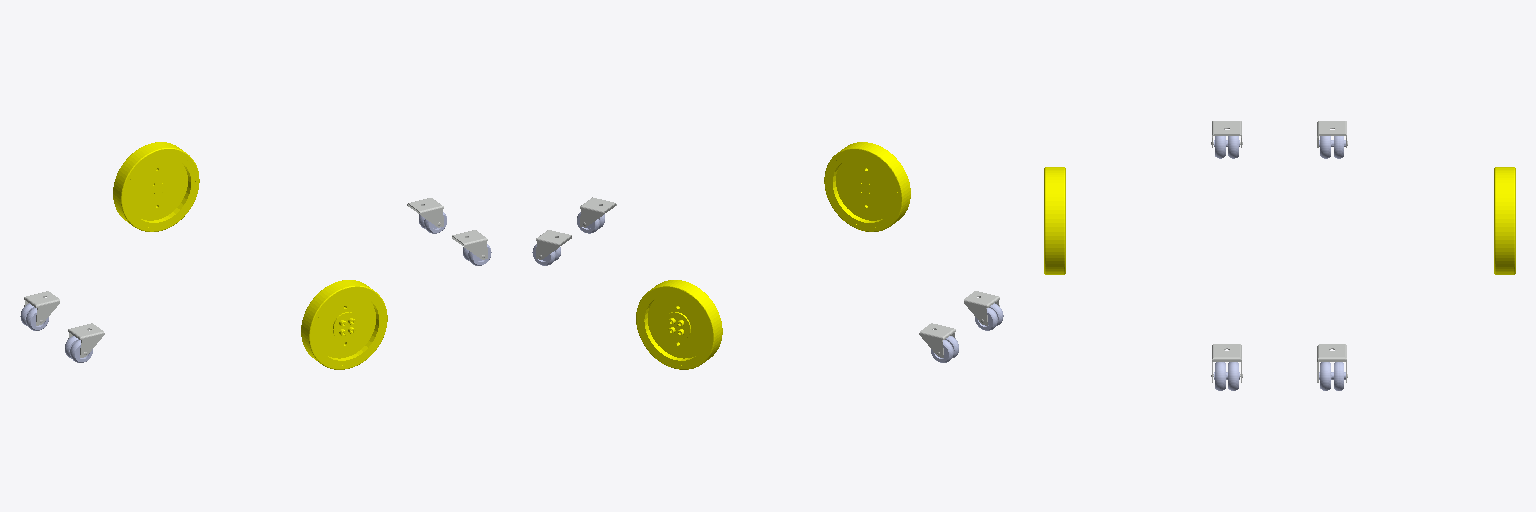
URDF robot description (Geek_urdf):
<?xml version="1.0" encoding="utf-8"?>
<!-- This URDF was automatically created by SolidWorks to URDF Exporter! Originally created by [author] ([email redacted]) 
     Commit Version: 1.6.0-4-g7f85cfe  Build Version: 1.6.7995.38578
     For more information, please see http://wiki.ros.org/sw_urdf_exporter -->
<robot
  name="Geek_urdf">
  <link
    name="base_link">
    <inertial>
      <origin
        xyz="-0.00305716206611616 0.0045884202321908 0.06439519652059"
        rpy="0 0 0" />
      <mass
        value="77.8438891379946" />
      <inertia
        ixx="2.66158650682503"
        ixy="0.00465456886997364"
        ixz="-0.0448561930855718"
        iyy="4.95553904457018"
        iyz="-0.000347263091590302"
        izz="7.43976146503052" />
    </inertial>
    <visual>
      <origin
        xyz="0 0 0"
        rpy="0 0 0" />
      <geometry>
        <mesh
          filename="package://urdf_gazebo/model/meshes/cover_geek.STL" />
      </geometry>
      <material
        name="">
        <color
          rgba="0.792156862745098 0.819607843137255 0.933333333333333 1" />
      </material>
    </visual>
    <collision>
      <origin
        xyz="0 0 0"
        rpy="0 0 0" />
      <geometry>
        <mesh
          filename="package://urdf_gazebo/model/meshes/cover_geek.STL" />
      </geometry>
    </collision>
  </link>

<!--  <link
    name="laser">
    <visual>
      <origin
        xyz="0 0 0"
        rpy="0 0 0" />
      <geometry>
        <mesh
          filename="package://urdf_gazebo/model/meshes/LidarC1.STL" />
      </geometry>
      <material
        name="">
        <color
          rgba="1 1 0 1" />
      </material>
    </visual>
    <collision>
      <origin
        xyz="0 0 0"
        rpy="0 0 0" />
      <geometry>
        <mesh
          filename="package://urdf_gazebo/model/meshes/LidarC1.STL" />
      </geometry>
    </collision>
  </link>

  <joint
    name="lidar_joint"
    type="fixed">
    <origin
      xyz="0.48 0 0.18"
      rpy="0 0 3.14" />
    <parent
      link="base_link" />
    <child
      link="laser" />
    <axis
      xyz="0 0 0" />
    <limit
      effort="0"
      velocity="0" />
  </joint> -->

  <link
    name="Wheel_left">
    <inertial>
      <origin
        xyz="-6.93889390390723E-18 -0.00478023300817915 1.38777878078145E-17"
        rpy="0 0 0" />
      <mass
        value="0.517910654794229" />
      <inertia
        ixx="0.00136656595177452"
        ixy="-2.42660287534672E-19"
        ixz="7.66944741072378E-23"
        iyy="0.00265936081827228"
        iyz="-5.55968853686178E-20"
        izz="0.00136780763909608" />
    </inertial>
    <visual>
      <origin
        xyz="0 0 0"
        rpy="0 0 0" />
      <geometry>
        <mesh
          filename="package://urdf_gazebo/model/meshes/Wheel_left.STL" />
      </geometry>
      <material
        name="">
        <color
          rgba="1 1 0 1" />
      </material>
    </visual>
    <collision>
      <origin
        xyz="0 0 0"
        rpy="0 0 0" />
      <geometry>
        <mesh
          filename="package://urdf_gazebo/model/meshes/Wheel_left.STL" />
      </geometry>
    </collision>
  </link>

  <joint
    name="Left_joint"
    type="continuous">
    <origin
      xyz="-0.0124999999999999 0.379 0.014"
      rpy="0 0 0" />
    <parent
      link="base_link" />
    <child
      link="Wheel_left" />
    <axis
      xyz="0 1 0" />
    <limit
      effort="5"
      velocity="0.5" />
  </joint>

  <link
    name="Wheel_right">
    <inertial>
      <origin
        xyz="0 0.00478023300817909 4.16333634234434E-17"
        rpy="0 0 0" />
      <mass
        value="0.517910654794229" />
      <inertia
        ixx="0.00136656595177452"
        ixy="-4.63116670299882E-20"
        ixz="-2.77147956340206E-23"
        iyy="0.00265936081827228"
        iyz="2.61304985200274E-19"
        izz="0.00136780763909608" />
    </inertial>
    <visual>
      <origin
        xyz="0 0 0"
        rpy="0 0 0" />
      <geometry>
        <mesh
          filename="package://urdf_gazebo/model/meshes/Wheel_right.STL" />
      </geometry>
      <material
        name="">
        <color
          rgba="1 1 0 1" />
      </material>
    </visual>
    <collision>
      <origin
        xyz="0 0 0"
        rpy="0 0 0" />
      <geometry>
        <mesh
          filename="package://urdf_gazebo/model/meshes/Wheel_right.STL" />
      </geometry>
    </collision>
  </link>

  <joint
    name="Right_joint"
    type="continuous">
    <origin
      xyz="-0.012761068076337 -0.378147843374183 0.0139950371053173"
      rpy="0 0 0" />
    <parent
      link="base_link" />
    <child
      link="Wheel_right" />
    <axis
      xyz="0 1 0" />
    <limit
      effort="5"
      velocity="0.5" />
  </joint>

  <link
    name="Castor_left_front">
    <inertial>
      <origin
        xyz="0.0116818994718 6.90648816192851E-08 -0.0117572288269466"
        rpy="0 0 0" />
      <mass
        value="0.097818964209342" />
      <inertia
        ixx="5.05495845715858E-05"
        ixy="-1.33022102484294E-10"
        ixz="5.37462531907203E-06"
        iyy="3.44210732908012E-05"
        iyz="-1.46748010716844E-10"
        izz="5.86667794924096E-05" />
    </inertial>
    <visual>
      <origin
        xyz="0 0 0"
        rpy="0 0 0" />
      <geometry>
        <mesh
          filename="package://urdf_gazebo/model/meshes/Castor_left_front.STL" />
      </geometry>
      <material
        name="">
        <color
          rgba="0.831372549019608 0.83921568627451 0.831372549019608 1" />
      </material>
    </visual>
    <collision>
      <origin
        xyz="0 0 0"
        rpy="0 0 0" />
      <geometry>
        <mesh
          filename="package://urdf_gazebo/model/meshes/Castor_left_front.STL" />
      </geometry>
    </collision>
  </link>

  <joint
    name="Castor_joint1"
    type="continuous">
    <origin
      xyz="0.433331730167157 0.087500000000002 -0.0145083157584551"
      rpy="0 0 0" />
    <parent
      link="base_link" />
    <child
      link="Castor_left_front" />
    <axis
      xyz="0 0 1" />
    <limit
      effort="1"
      velocity="0.01" />
  </joint>

  <link
    name="Castor_wl_front">
    <inertial>
      <origin
        xyz="-5.55111512312578E-17 5.55111512312578E-17 -2.77555756156289E-17"
        rpy="0 0 0" />
      <mass
        value="0.399005501589666" />
      <inertia
        ixx="7.40208573605524E-05"
        ixy="-5.25121965921452E-21"
        ixz="2.4293507090788E-21"
        iyy="0.000130391911715417"
        iyz="-3.39737003983283E-22"
        izz="7.40208573605524E-05" />
    </inertial>
    <visual>
      <origin
        xyz="0 0 0"
        rpy="0 0 0" />
      <geometry>
        <mesh
          filename="package://urdf_gazebo/model/meshes/Castor_wl_front.STL" />
      </geometry>
      <material
        name="">
        <color
          rgba="0.792156862745098 0.819607843137255 0.933333333333333 1" />
      </material>
    </visual>
    <collision>
      <origin
        xyz="0 0 0"
        rpy="0 0 0" />
      <geometry>
        <mesh
          filename="package://urdf_gazebo/model/meshes/Castor_wl_front.STL" />
      </geometry>
    </collision>
  </link>

  <joint
    name="Castor_w1_joint"
    type="continuous">
    <origin
      xyz="0.0231312329952886 0 -0.0365000000000001"
      rpy="0 0 0" />
    <parent
      link="Castor_left_front" />
    <child
      link="Castor_wl_front" />
    <axis
      xyz="0 1 0" />
    <limit
      effort="5"
      velocity="0.1" />
  </joint>

  <link
    name="Castor_right_front">
    <inertial>
      <origin
        xyz="0.0116818994718001 6.90648814249961E-08 -0.0127572288269465"
        rpy="0 0 0" />
      <mass
        value="0.0978189642093408" />
      <inertia
        ixx="5.05495845715853E-05"
        ixy="-1.3302210260237E-10"
        ixz="5.37462531907205E-06"
        iyy="3.4421073290801E-05"
        iyz="-1.46748010641502E-10"
        izz="5.86667794924089E-05" />
    </inertial>
    <visual>
      <origin
        xyz="0 0 0"
        rpy="0 0 0" />
      <geometry>
        <mesh
          filename="package://urdf_gazebo/model/meshes/Castor_right_front.STL" />
      </geometry>
      <material
        name="">
        <color
          rgba="0.831372549019608 0.83921568627451 0.831372549019608 1" />
      </material>
    </visual>
    <collision>
      <origin
        xyz="0 0 0"
        rpy="0 0 0" />
      <geometry>
        <mesh
          filename="package://urdf_gazebo/model/meshes/Castor_right_front.STL" />
      </geometry>
    </collision>
  </link>

  <joint
    name="Castor_joint2"
    type="continuous">
    <origin
      xyz="0.433331730167156 -0.0874999999999996 -0.0135083157584558"
      rpy="0 0 0" />
    <parent
      link="base_link" />
    <child
      link="Castor_right_front" />
    <axis
      xyz="0 0 1" />
    <limit
      effort="1"
      velocity="0.01" />
  </joint>

  <link
    name="Castor_wr_front">
    <inertial>
      <origin
        xyz="0 -8.32667268468867E-17 -2.77555756156289E-17"
        rpy="0 0 0" />
      <mass
        value="0.399005501589666" />
      <inertia
        ixx="7.40208573605473E-05"
        ixy="-5.09043022379613E-21"
        ixz="2.49923402915458E-21"
        iyy="0.000130391911715417"
        iyz="-1.37205840844949E-21"
        izz="7.40208573605472E-05" />
    </inertial>
    <visual>
      <origin
        xyz="0 0 0"
        rpy="0 0 0" />
      <geometry>
        <mesh
          filename="package://urdf_gazebo/model/meshes/Castor_wr_front.STL" />
      </geometry>
      <material
        name="">
        <color
          rgba="0.792156862745098 0.819607843137255 0.933333333333333 1" />
      </material>
    </visual>
    <collision>
      <origin
        xyz="0 0 0"
        rpy="0 0 0" />
      <geometry>
        <mesh
          filename="package://urdf_gazebo/model/meshes/Castor_wr_front.STL" />
      </geometry>
    </collision>
  </link>

  <joint
    name="Castor_w2_joint"
    type="continuous">
    <origin
      xyz="0.0231312329952886 0 -0.0375"
      rpy="0 0 0" />
    <parent
      link="Castor_right_front" />
    <child
      link="Castor_wr_front" />
    <axis
      xyz="0 1 0" />
    <limit
      effort="5"
      velocity="0.1" />
  </joint>

  <link
    name="Castor_left_back">
    <inertial>
      <origin
        xyz="-0.0116818994717525 -6.90649586791714E-08 -0.011757228826967"
        rpy="0 0 0" />
      <mass
        value="0.0978189642089984" />
      <inertia
        ixx="5.05495845714093E-05"
        ixy="-1.3302222185005E-10"
        ixz="-5.37462531909635E-06"
        iyy="3.4421073290711E-05"
        iyz="1.46748047889163E-10"
        izz="5.86667794921613E-05" />
    </inertial>
    <visual>
      <origin
        xyz="0 0 0"
        rpy="0 0 0" />
      <geometry>
        <mesh
          filename="package://urdf_gazebo/model/meshes/Castor_left_back.STL" />
      </geometry>
      <material
        name="">
        <color
          rgba="0.831372549019608 0.83921568627451 0.831372549019608 1" />
      </material>
    </visual>
    <collision>
      <origin
        xyz="0 0 0"
        rpy="0 0 0" />
      <geometry>
        <mesh
          filename="package://urdf_gazebo/model/meshes/Castor_left_back.STL" />
      </geometry>
    </collision>
  </link>

  <joint
    name="Castor_joint3"
    type="continuous">
    <origin
      xyz="-0.433 0.0875000000000001 -0.0145083157584549"
      rpy="0 0 0" />
    <parent
      link="base_link" />
    <child
      link="Castor_left_back" />
    <axis
      xyz="0 0 1" />
    <limit
      effort="1"
      velocity="0.01" />
  </joint>

  <link
    name="Castor_wl_back">
    <inertial>
      <origin
        xyz="2.22044604925031E-16 2.77555756156289E-16 5.55111512312578E-17"
        rpy="0 0 0" />
      <mass
        value="0.399005501589666" />
      <inertia
        ixx="7.40208573605612E-05"
        ixy="-3.97255544270672E-19"
        ixz="5.19709399699323E-23"
        iyy="0.000130391911715417"
        iyz="7.76898286225273E-22"
        izz="7.40208573605612E-05" />
    </inertial>
    <visual>
      <origin
        xyz="0 0 0"
        rpy="0 0 0" />
      <geometry>
        <mesh
          filename="package://urdf_gazebo/model/meshes/Castor_wl_back.STL" />
      </geometry>
      <material
        name="">
        <color
          rgba="0.792156862745098 0.819607843137255 0.933333333333333 1" />
      </material>
    </visual>
    <collision>
      <origin
        xyz="0 0 0"
        rpy="0 0 0" />
      <geometry>
        <mesh
          filename="package://urdf_gazebo/model/meshes/Castor_wl_back.STL" />
      </geometry>
    </collision>
  </link>

  <joint
    name="Castor_w3_joint"
    type="continuous">
    <origin
      xyz="-0.0231312329952889 0 -0.0365000000000001"
      rpy="0 0 0" />
    <parent
      link="Castor_left_back" />
    <child
      link="Castor_wl_back" />
    <axis
      xyz="0 1 0" />
    <limit
      effort="5"
      velocity="0.01" />
  </joint>

  <link
    name="Castor_right_back">
    <inertial>
      <origin
        xyz="-0.0116818994718001 -6.90648815915296E-08 -0.0117572288269468"
        rpy="0 0 0" />
      <mass
        value="0.0978189642093413" />
      <inertia
        ixx="5.05495845715854E-05"
        ixy="-1.33022102636291E-10"
        ixz="-5.37462531907198E-06"
        iyy="3.4421073290801E-05"
        iyz="1.46748010837369E-10"
        izz="5.86667794924092E-05" />
    </inertial>
    <visual>
      <origin
        xyz="0 0 0"
        rpy="0 0 0" />
      <geometry>
        <mesh
          filename="package://urdf_gazebo/model/meshes/Castor_right_back.STL" />
      </geometry>
      <material
        name="">
        <color
          rgba="0.831372549019608 0.83921568627451 0.831372549019608 1" />
      </material>
    </visual>
    <collision>
      <origin
        xyz="0 0 0"
        rpy="0 0 0" />
      <geometry>
        <mesh
          filename="package://urdf_gazebo/model/meshes/Castor_right_back.STL" />
      </geometry>
    </collision>
  </link>

  <joint
    name="Castor_joint4"
    type="continuous">
    <origin
      xyz="-0.432999999999998 -0.0875000000000036 -0.0145083157584543"
      rpy="0 0 0" />
    <parent
      link="base_link" />
    <child
      link="Castor_right_back" />
    <axis
      xyz="0 0 1" />
    <limit
      effort="1"
      velocity="0.01" />
  </joint>

  <link
    name="Castor_wr_back">
    <inertial>
      <origin
        xyz="-5.55111512312578E-17 1.66533453693773E-16 2.77555756156289E-17"
        rpy="0 0 0" />
      <mass
        value="0.399005501589665" />
      <inertia
        ixx="7.40208573605594E-05"
        ixy="-3.97855213225701E-19"
        ixz="-3.59753913637854E-21"
        iyy="0.000130391911715417"
        iyz="1.27645824859273E-21"
        izz="7.40208573605593E-05" />
    </inertial>
    <visual>
      <origin
        xyz="0 0 0"
        rpy="0 0 0" />
      <geometry>
        <mesh
          filename="package://urdf_gazebo/model/meshes/Castor_wr_back.STL" />
      </geometry>
      <material
        name="">
        <color
          rgba="0.792156862745098 0.819607843137255 0.933333333333333 1" />
      </material>
    </visual>
    <collision>
      <origin
        xyz="0 0 0"
        rpy="0 0 0" />
      <geometry>
        <mesh
          filename="package://urdf_gazebo/model/meshes/Castor_wr_back.STL" />
      </geometry>
    </collision>
  </link>

  <joint
    name="Castor_w4_joint"
    type="continuous">
    <origin
      xyz="-0.0231312329952886 0 -0.0365000000000001"
      rpy="0 0 0" />
    <parent
      link="Castor_right_back" />
    <child
      link="Castor_wr_back" />
    <axis
      xyz="0 1 0" />
    <limit
      effort="5"
      velocity="0.01" />
  </joint>

<gazebo reference="Castor_left_front">  
    <material>Gazebo/Black</material>

     
    <mu1 value ="0.05"/>
    <mu2 value = "0.045"/>

    <kp value = "1000" />
    <kd value = "100"/>
</gazebo>

<gazebo reference="Castor_right_front">  
    <material>Gazebo/Black</material>

     
    <mu1 value ="0.05"/>
    <mu2 value = "0.045"/>

    <kp value = "1000" />
    <kd value = "100"/>
</gazebo>

<gazebo reference="Castor_left_back">  
    <material>Gazebo/Black</material>

     
    <mu1 value ="0.05"/>
    <mu2 value = "0.045"/>

    <kp value = "1000" />
    <kd value = "100"/>
</gazebo>

<gazebo reference="Castor_right_back">  
    <material>Gazebo/Black</material>

     
    <mu1 value ="0.05"/>
    <mu2 value = "0.045"/>

    <kp value = "1000" />
    <kd value = "100"/>
</gazebo> 
  
<gazebo reference="Wheel_left">  
<material>Gazebo/YellowGlow</material>
</gazebo>

<gazebo reference="Wheel_right">  
<material>Gazebo/YellowGlow</material>
</gazebo>  

    <gazebo>
    
      <plugin filename="libgazebo_ros_diff_drive.so" name="differential_drive_controller">
          <alwaysOn>true</alwaysOn>
          <updateRate>20</updateRate>
          <leftJoint>Left_joint</leftJoint>
          <rightJoint>Right_joint</rightJoint>
          <wheelSeparation>0.758</wheelSeparation>
          <wheelDiameter>0.18</wheelDiameter>
          <torque>6</torque>
          <commandTopic>cmd_vel</commandTopic>
          <odometryTopic>odom</odometryTopic>
          <odometryFrame>odom</odometryFrame>
          <robotBaseFrame>base_link</robotBaseFrame>
      </plugin>
      </gazebo>

</robot>

--- Facts derived from the render (not from the file) ---
3 views of the same robot in one strip: view 1: azimuth 30°, elevation 25°; view 2: azimuth 150°, elevation 25°; view 3: azimuth 270°, elevation 25° (orthographic).
Model Geek_urdf with 11 links and 10 joints (10 continuous), rooted at base_link, posed all joints at 0.
Links seen in each view (by area): view 1: Wheel_left, Wheel_right, Castor_right_back, Castor_left_back, Castor_left_front, Castor_right_front; view 2: Wheel_left, Wheel_right, Castor_left_back, Castor_right_back, Castor_right_front, Castor_left_front; view 3: Wheel_left, Wheel_right, Castor_wr_front, Castor_wl_front, Castor_left_front, Castor_right_front.
Link boxes in pixels (x1,y1,x2,y2): Wheel_left: (113,142,199,231); Wheel_right: (301,280,387,369); Castor_right_back: (68,323,104,357); Castor_left_back: (24,291,59,325); Castor_left_front: (407,198,443,227); Castor_right_front: (452,230,487,259); Wheel_left: (636,280,722,369); Wheel_right: (824,142,910,231); Castor_left_back: (919,323,955,357); Castor_right_back: (964,291,999,325); Castor_right_front: (580,197,616,227); Castor_left_front: (536,230,571,259); Wheel_left: (1494,167,1515,274); Wheel_right: (1044,167,1065,274); Castor_wr_front: (1214,362,1239,390); Castor_wl_front: (1319,362,1345,390); Castor_left_front: (1317,344,1347,382); Castor_right_front: (1211,344,1242,382).
Bounding box of the posed robot: 0.9625 × 0.7821 × 0.1799 m (x, y, z).
Meshes: 11 distinct files referenced, 10 mesh visuals loaded (10 binary STL); not drawn: 1 (reference not matched to a file when rendering).
